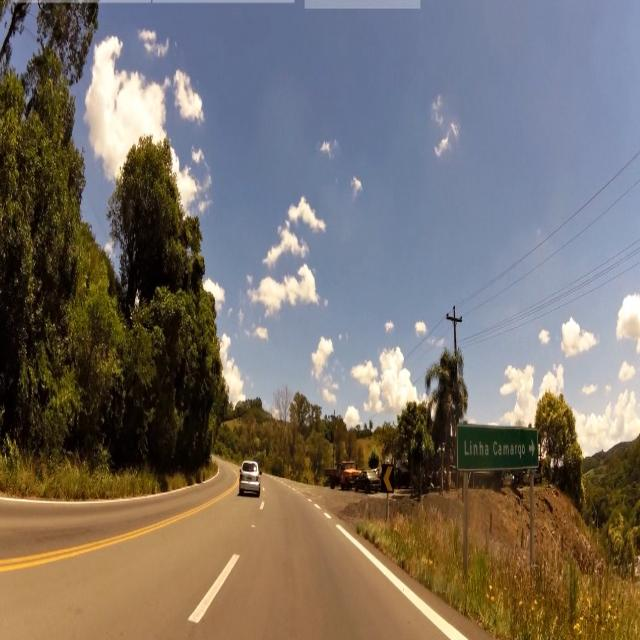Del: (381, 465, 397, 491)
I-4: (457, 431, 538, 465)
